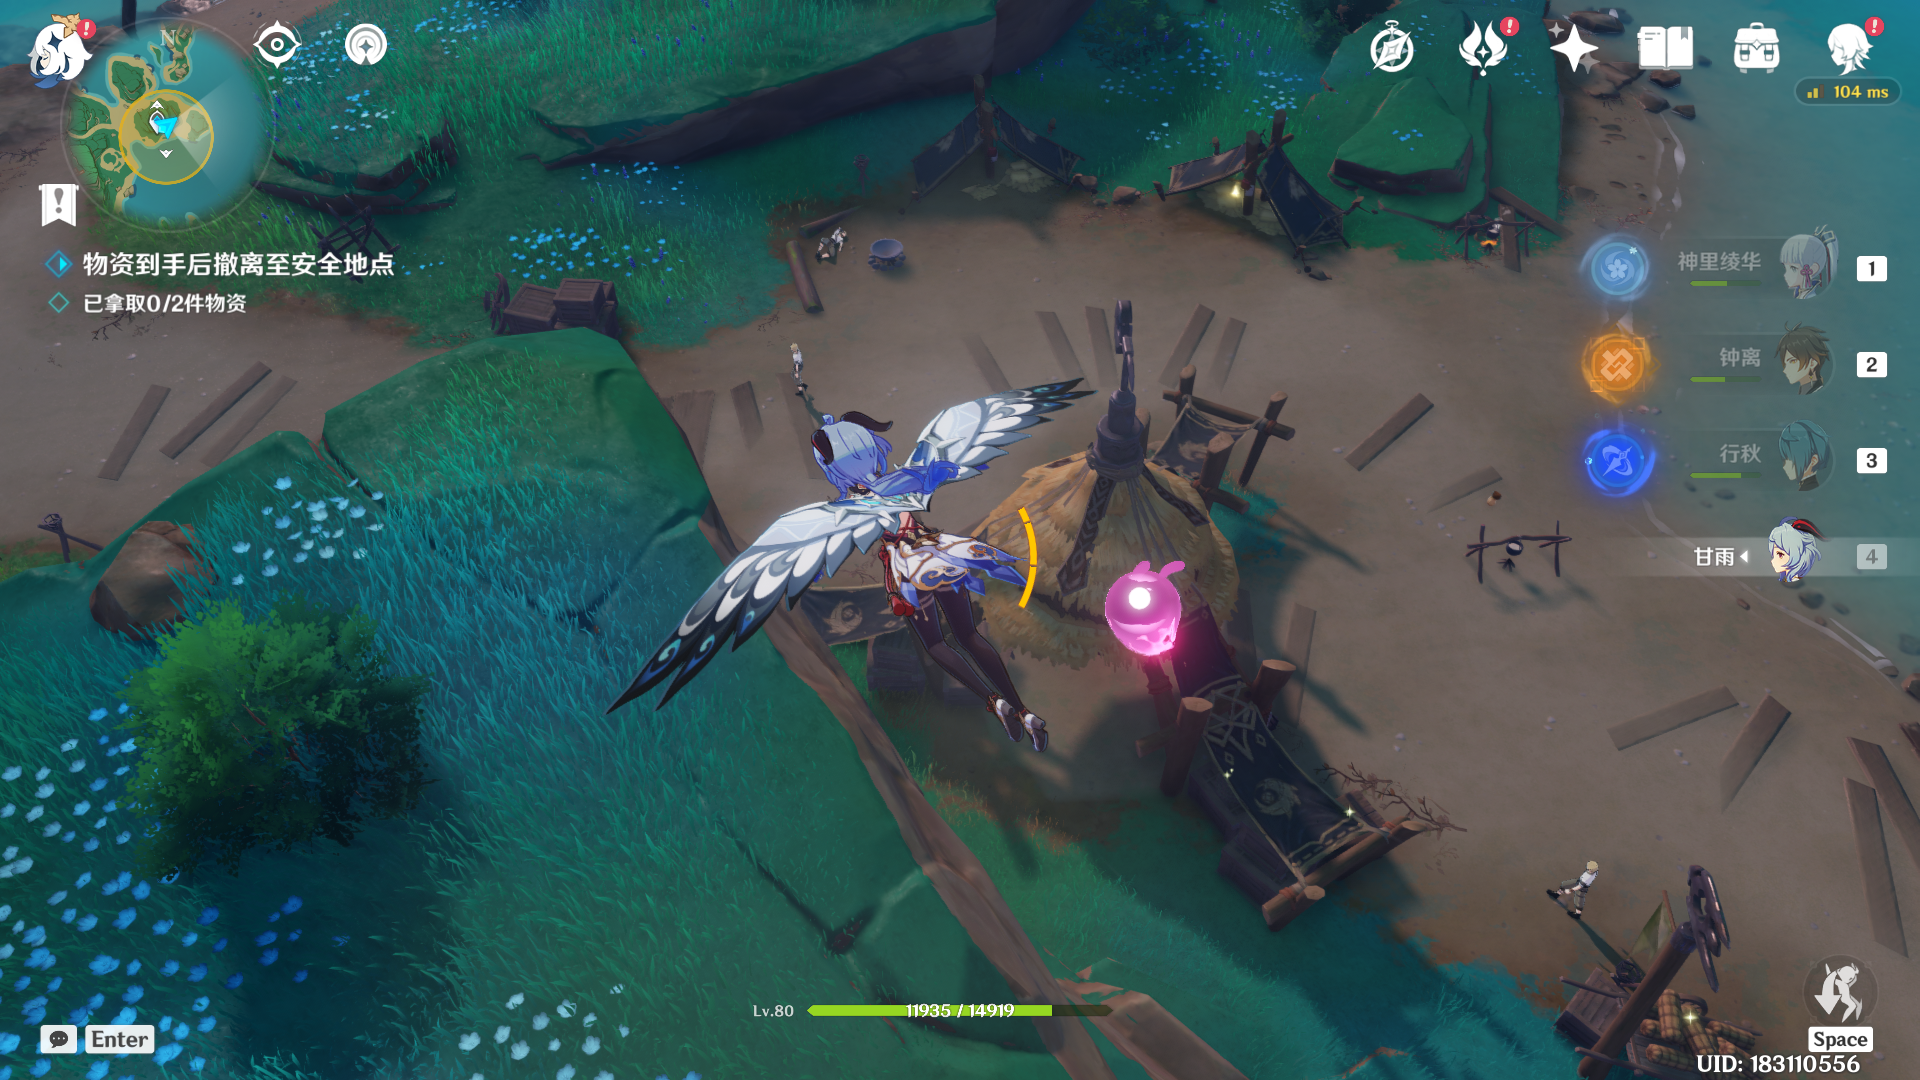character: (720, 377, 1120, 819)
